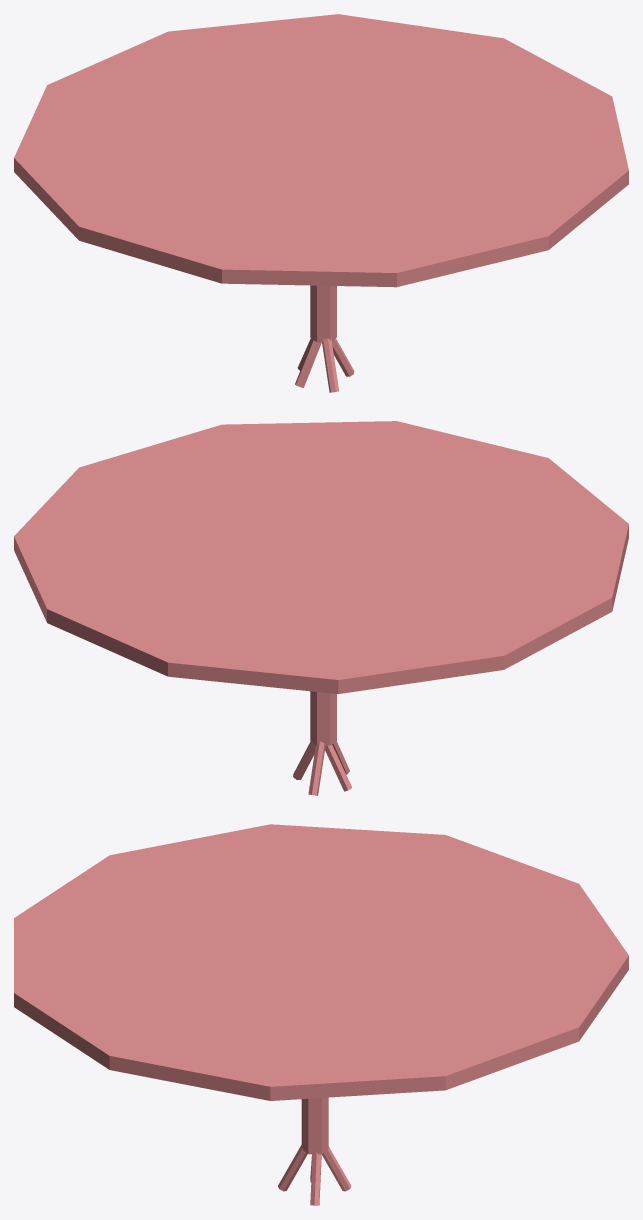
The model's file is circle_table.glb.
3 renders of one model, top to bottom at view 1: azimuth 30°, elevation 25°; view 2: azimuth 150°, elevation 25°; view 3: azimuth 270°, elevation 25°, orthographic.
Parts seen in each view (by area): view 1: circle_table; view 2: circle_table; view 3: circle_table.
Part boxes in pixels (bbox=[...]): circle_table: bbox=[14, 14, 628, 392]; circle_table: bbox=[14, 421, 628, 795]; circle_table: bbox=[14, 824, 628, 1205].
Size of the model in its own units: 1.98 by 0.84 by 1.96.
